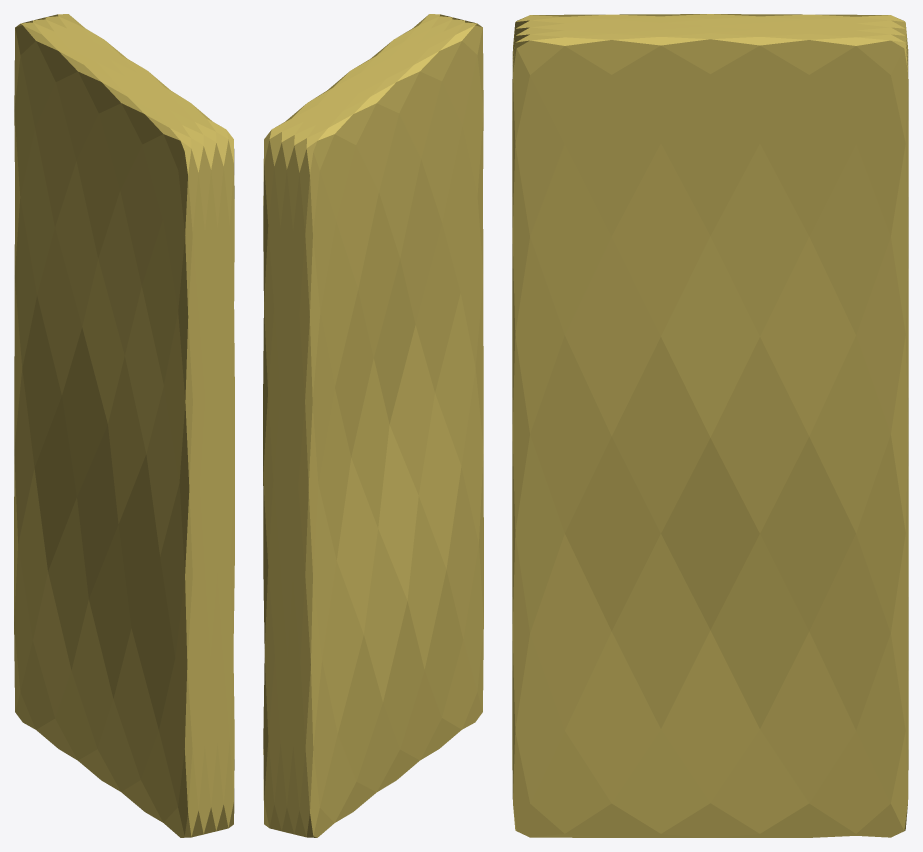
File: isoslierung.glb
3 renders of one model, left to right at view 1: azimuth 30°, elevation 25°; view 2: azimuth 150°, elevation 25°; view 3: azimuth 270°, elevation 25°, orthographic. The views are drawn at different scales.
Parts seen in each view (by area): view 1: Haus_Grundriss.001; view 2: Haus_Grundriss.001; view 3: Haus_Grundriss.001.
Part boxes in pixels (<box>): Haus_Grundriss.001: <box>14,14,234,837</box>; Haus_Grundriss.001: <box>263,14,483,837</box>; Haus_Grundriss.001: <box>512,14,908,837</box>.
Size of the model in its own units: 0.5805 by 5.67 by 2.55.
